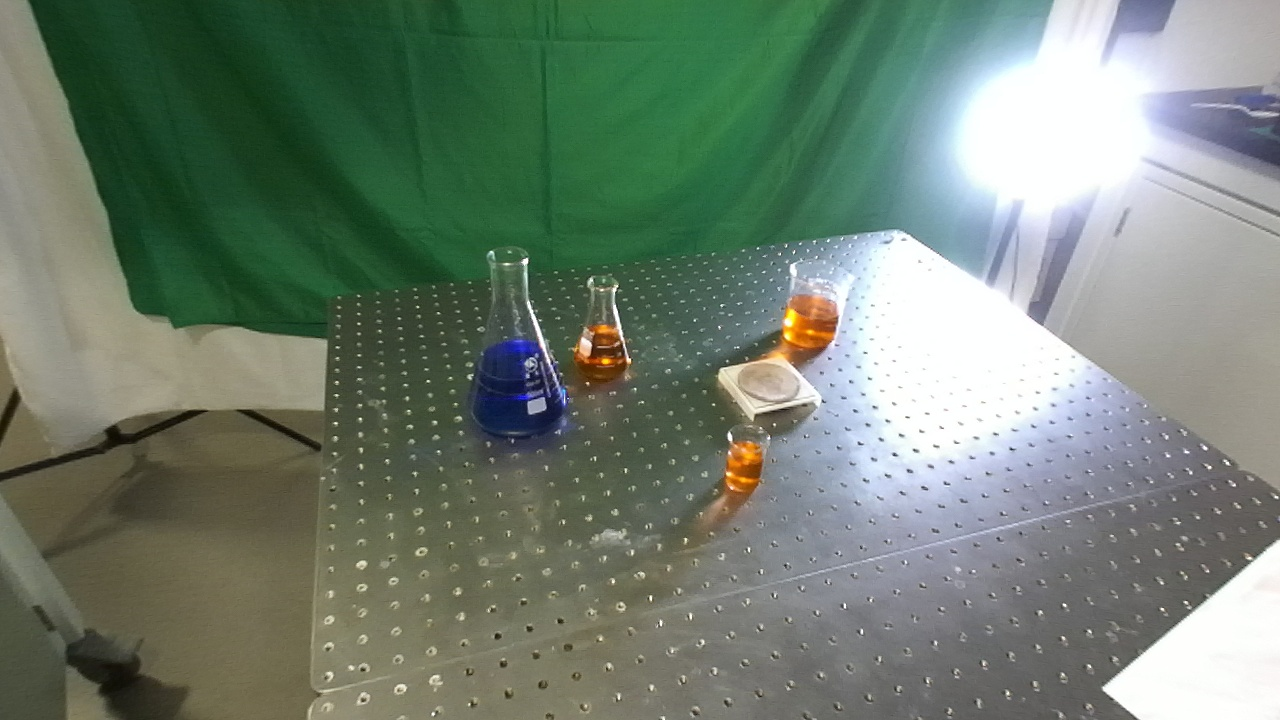glass: (464, 242, 571, 443), (570, 271, 635, 382), (781, 256, 851, 356), (722, 425, 770, 498)
plate: (714, 355, 826, 424)
